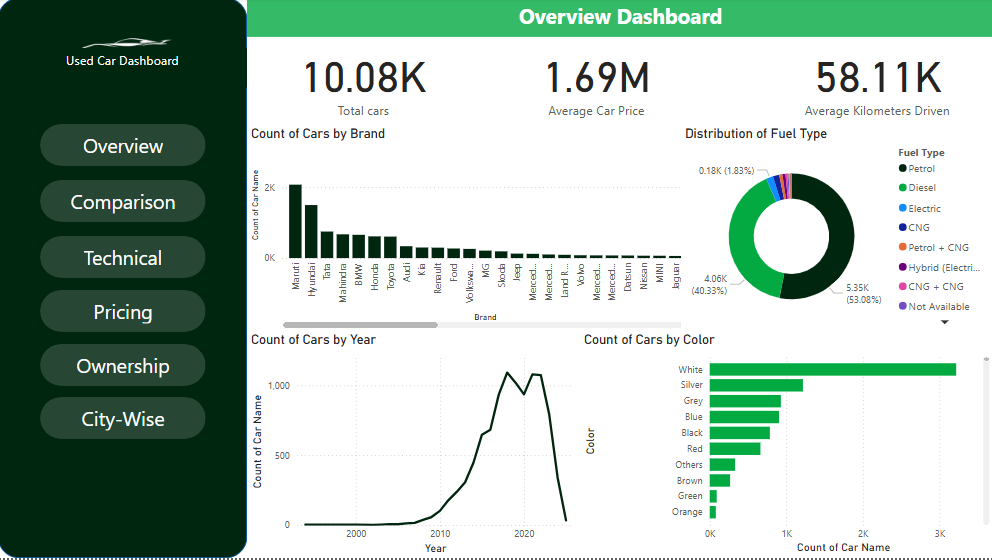

The dashboard page shown, as its layout file describes it:
{"tool":"powerbi","page":{"name":"Overview","canvas":[1280,720],"ordinal":1},"visuals":[{"type":"shape","box":[0,0,320,719.7],"z":0},{"type":"actionButton","box":[54,161.9,213.3,54],"z":1000},{"type":"actionButton","box":[54,233.9,213.3,54],"z":2000},{"type":"actionButton","box":[54,305.9,213.3,54],"z":3000},{"type":"actionButton","box":[54,375.3,213.3,54],"z":4000},{"type":"actionButton","box":[54,444.7,213.3,54],"z":5000},{"type":"actionButton","box":[54,512.8,213.3,54],"z":6000},{"type":"textbox","box":[320,0,960,50.1],"z":7000},{"type":"card","fields":{"Values":["CountNonNull(Worksheet.Car Name)"]},"box":[320,50.1,299.4,111.8],"z":8000},{"type":"card","fields":{"Values":["Avg(Worksheet.Price_reviced)"]},"box":[619.4,50.1,299.4,111.8],"z":9000},{"type":"card","fields":{"Values":["Avg(Worksheet.Kilometers Driven)"]},"box":[980.6,50.1,299.4,111.8],"z":10000},{"type":"columnChart","title":"Count of Cars by Brand","fields":{"Y":["CountNonNull(Worksheet.Car Name)"],"Category":["Worksheet.Brand"]},"box":[320,164.5,571.9,264.7],"z":11000},{"type":"donutChart","title":"Distribution of Fuel Type","fields":{"Category":["Worksheet.Fuel Type"],"Y":["CountNonNull(Worksheet.Fuel Type)"]},"box":[877.8,164.5,402.2,264.7],"z":12000},{"type":"barChart","title":"Count of Cars by Color","fields":{"Category":["Worksheet.Color"],"Y":["CountNonNull(Worksheet.Car Name)"]},"box":[748,429.2,532,290.4],"z":13000},{"type":"lineChart","title":"Count of Cars by Year","fields":{"Y":["CountNonNull(Worksheet.Car Name)"],"Category":["Worksheet.Manufacturing Year.Variation.Date Hierarchy.Year"]},"box":[320,429,428,291],"z":14000},{"type":"image","box":[0,0,320,115.7],"z":14001},{"type":"textbox","box":[0,64.3,320,51.4],"z":14002}]}

Visuals, with their boxes in screenshot pixels (x1, y1, x2, y2), scaled from the page's 1280x720 canvas onto the 992x560 screenshot:
shape: 0, 0, 248, 559
actionButton: 42, 126, 207, 168
actionButton: 42, 182, 207, 224
actionButton: 42, 238, 207, 280
actionButton: 42, 292, 207, 334
actionButton: 42, 346, 207, 388
actionButton: 42, 399, 207, 441
textbox: 248, 0, 991, 39
card - CountNonNull(Worksheet.Car Name): 248, 39, 480, 126
card - Avg(Worksheet.Price_reviced): 480, 39, 712, 126
card - Avg(Worksheet.Kilometers Driven): 760, 39, 991, 126
"Count of Cars by Brand" columnChart: 248, 128, 691, 334
"Distribution of Fuel Type" donutChart: 680, 128, 991, 334
"Count of Cars by Color" barChart: 580, 334, 991, 559
"Count of Cars by Year" lineChart: 248, 334, 580, 559
image: 0, 0, 248, 90
textbox: 0, 50, 248, 90
